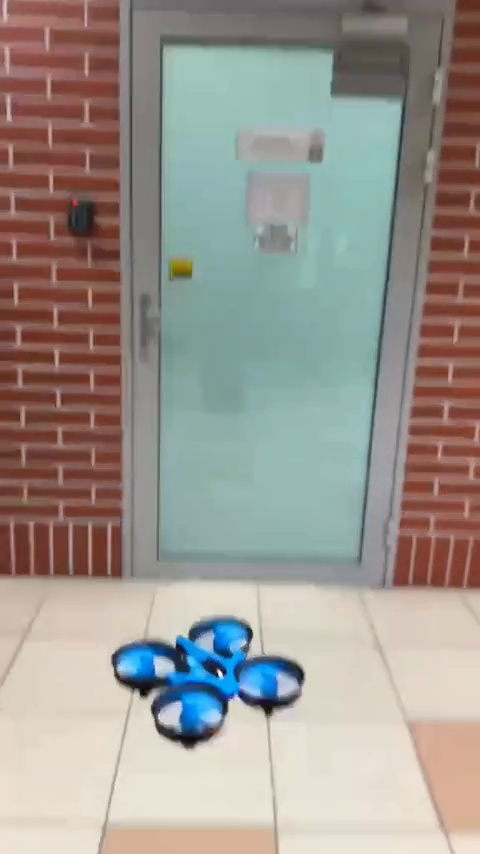drone: (117, 614, 307, 751)
